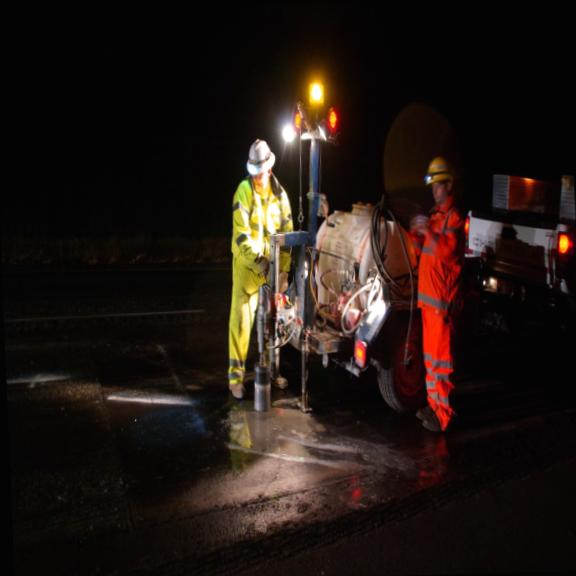safety_vest: (410, 204, 463, 328), (230, 181, 293, 283)
